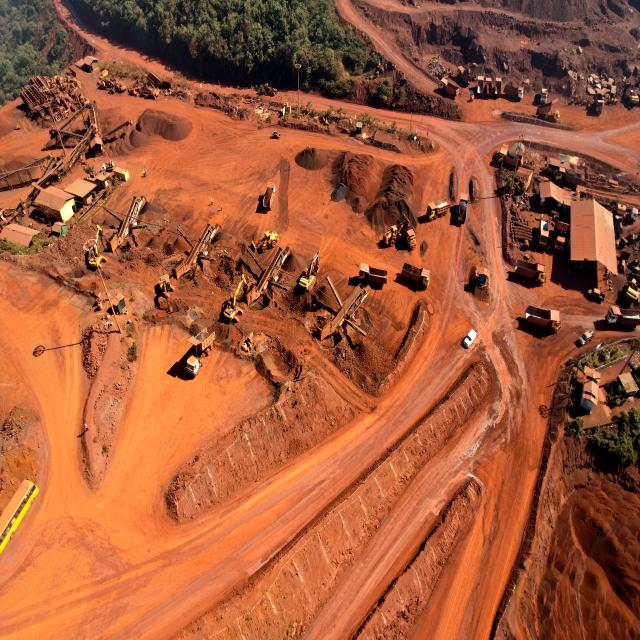Dumper truck: (182, 335, 212, 376), (524, 307, 560, 333), (514, 263, 548, 285), (401, 264, 431, 288), (468, 262, 491, 288), (428, 196, 451, 222), (360, 264, 387, 286), (494, 147, 522, 168), (607, 306, 633, 326), (554, 220, 569, 250), (455, 194, 469, 222), (439, 78, 458, 96), (539, 218, 549, 248), (265, 183, 277, 207), (505, 86, 523, 100), (458, 65, 471, 84), (537, 106, 554, 119), (483, 77, 495, 95), (592, 99, 604, 115), (536, 91, 549, 104), (549, 110, 561, 122), (493, 79, 502, 93), (220, 204, 223, 212), (210, 198, 213, 205)
Excavator: (221, 286, 253, 321), (297, 250, 320, 291), (156, 272, 176, 313), (221, 296, 243, 321), (84, 241, 104, 267), (624, 84, 640, 108), (403, 224, 418, 248)
car: (462, 329, 478, 348), (578, 330, 594, 345)
